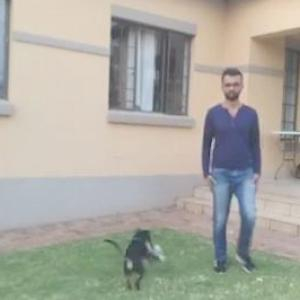follow: (199, 68, 265, 273)
